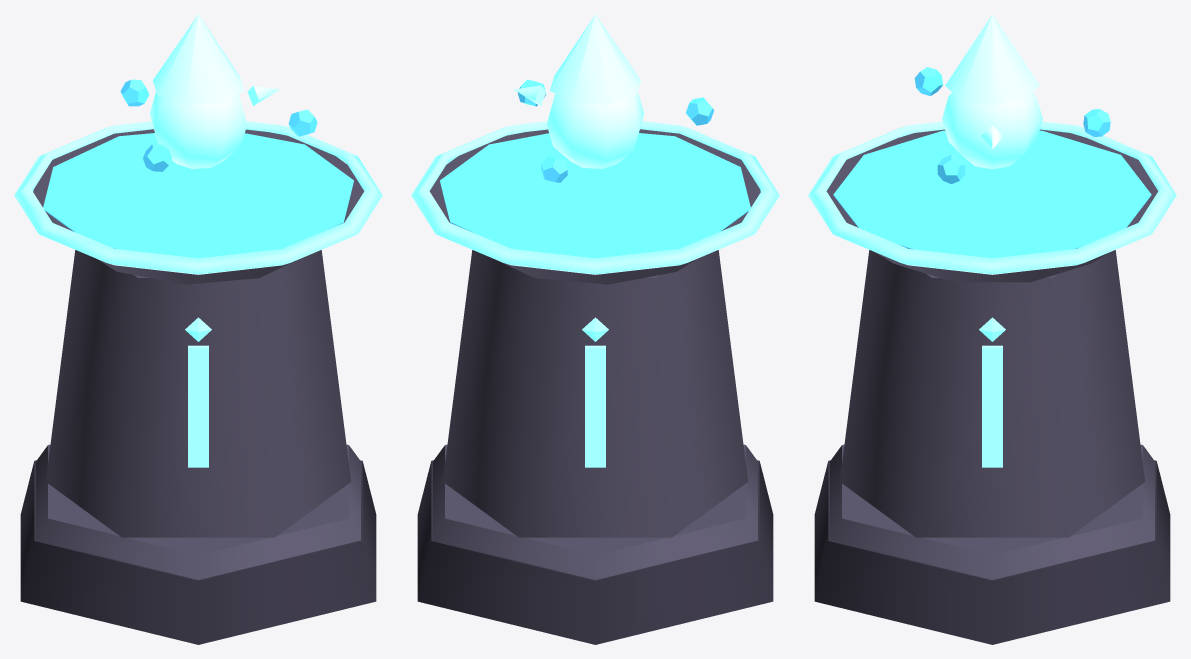
File: tower_element_elementWater.glb
3 views of the same model, side by side, from view 1: azimuth 30°, elevation 25°; view 2: azimuth 150°, elevation 25°; view 3: azimuth 270°, elevation 25° (orthographic).
Parts seen in each view (by area): view 1: pillar, basin_water, base, base_top, basin_rim, crystal, crystal_tip, basin, rune_2, droplet_1, droplet_2, droplet_0; view 2: pillar, basin_water, base, base_top, basin_rim, crystal, crystal_tip, basin, rune_1, droplet_1, droplet_2; view 3: pillar, basin_water, base, base_top, basin_rim, crystal, crystal_tip, basin, rune_0, droplet_0, droplet_2, droplet_1.
Part boxes in pixels (<box>): pillar: <box>45,250,351,537</box>; basin_water: <box>43,133,353,258</box>; base: <box>20,460,376,644</box>; base_top: <box>36,444,360,579</box>; basin_rim: <box>14,121,382,274</box>; crystal: <box>149,92,247,168</box>; crystal_tip: <box>153,14,244,104</box>; basin: <box>33,129,364,284</box>; rune_2: <box>188,345,208,467</box>; droplet_1: <box>143,144,171,171</box>; droplet_2: <box>120,79,149,106</box>; droplet_0: <box>288,109,317,136</box>; pillar: <box>442,250,748,537</box>; basin_water: <box>440,133,750,258</box>; base: <box>417,460,773,644</box>; base_top: <box>433,444,757,579</box>; basin_rim: <box>411,121,779,274</box>; crystal: <box>546,92,644,168</box>; crystal_tip: <box>549,14,640,104</box>; basin: <box>429,129,760,284</box>; rune_1: <box>585,345,605,467</box>; droplet_1: <box>686,97,713,125</box>; droplet_2: <box>541,156,567,182</box>; pillar: <box>839,250,1145,537</box>; basin_water: <box>833,130,1151,258</box>; base: <box>814,460,1170,644</box>; base_top: <box>830,444,1154,579</box>; basin_rim: <box>808,121,1176,274</box>; crystal: <box>942,93,1042,169</box>; crystal_tip: <box>945,14,1039,105</box>; basin: <box>826,129,1158,282</box>; rune_0: <box>982,345,1002,467</box>; droplet_0: <box>937,155,965,183</box>; droplet_2: <box>1083,109,1110,136</box>; droplet_1: <box>914,67,943,95</box>.
Size of the model in its own units: 0.39 by 0.57 by 0.35.
